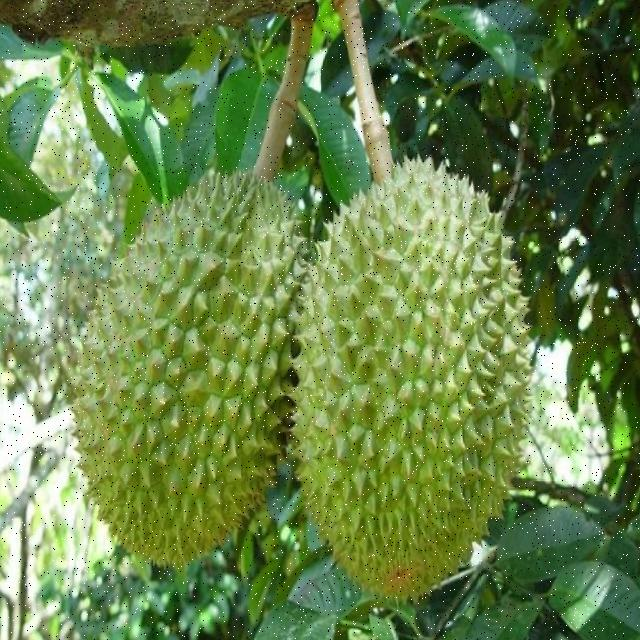UNRIPE: (292, 155, 535, 603), (80, 168, 301, 568)
